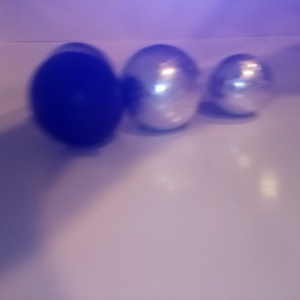alive_ball: (120, 43, 205, 131), (208, 52, 273, 116), (51, 41, 112, 100)
dead_ball: (29, 50, 124, 144)
